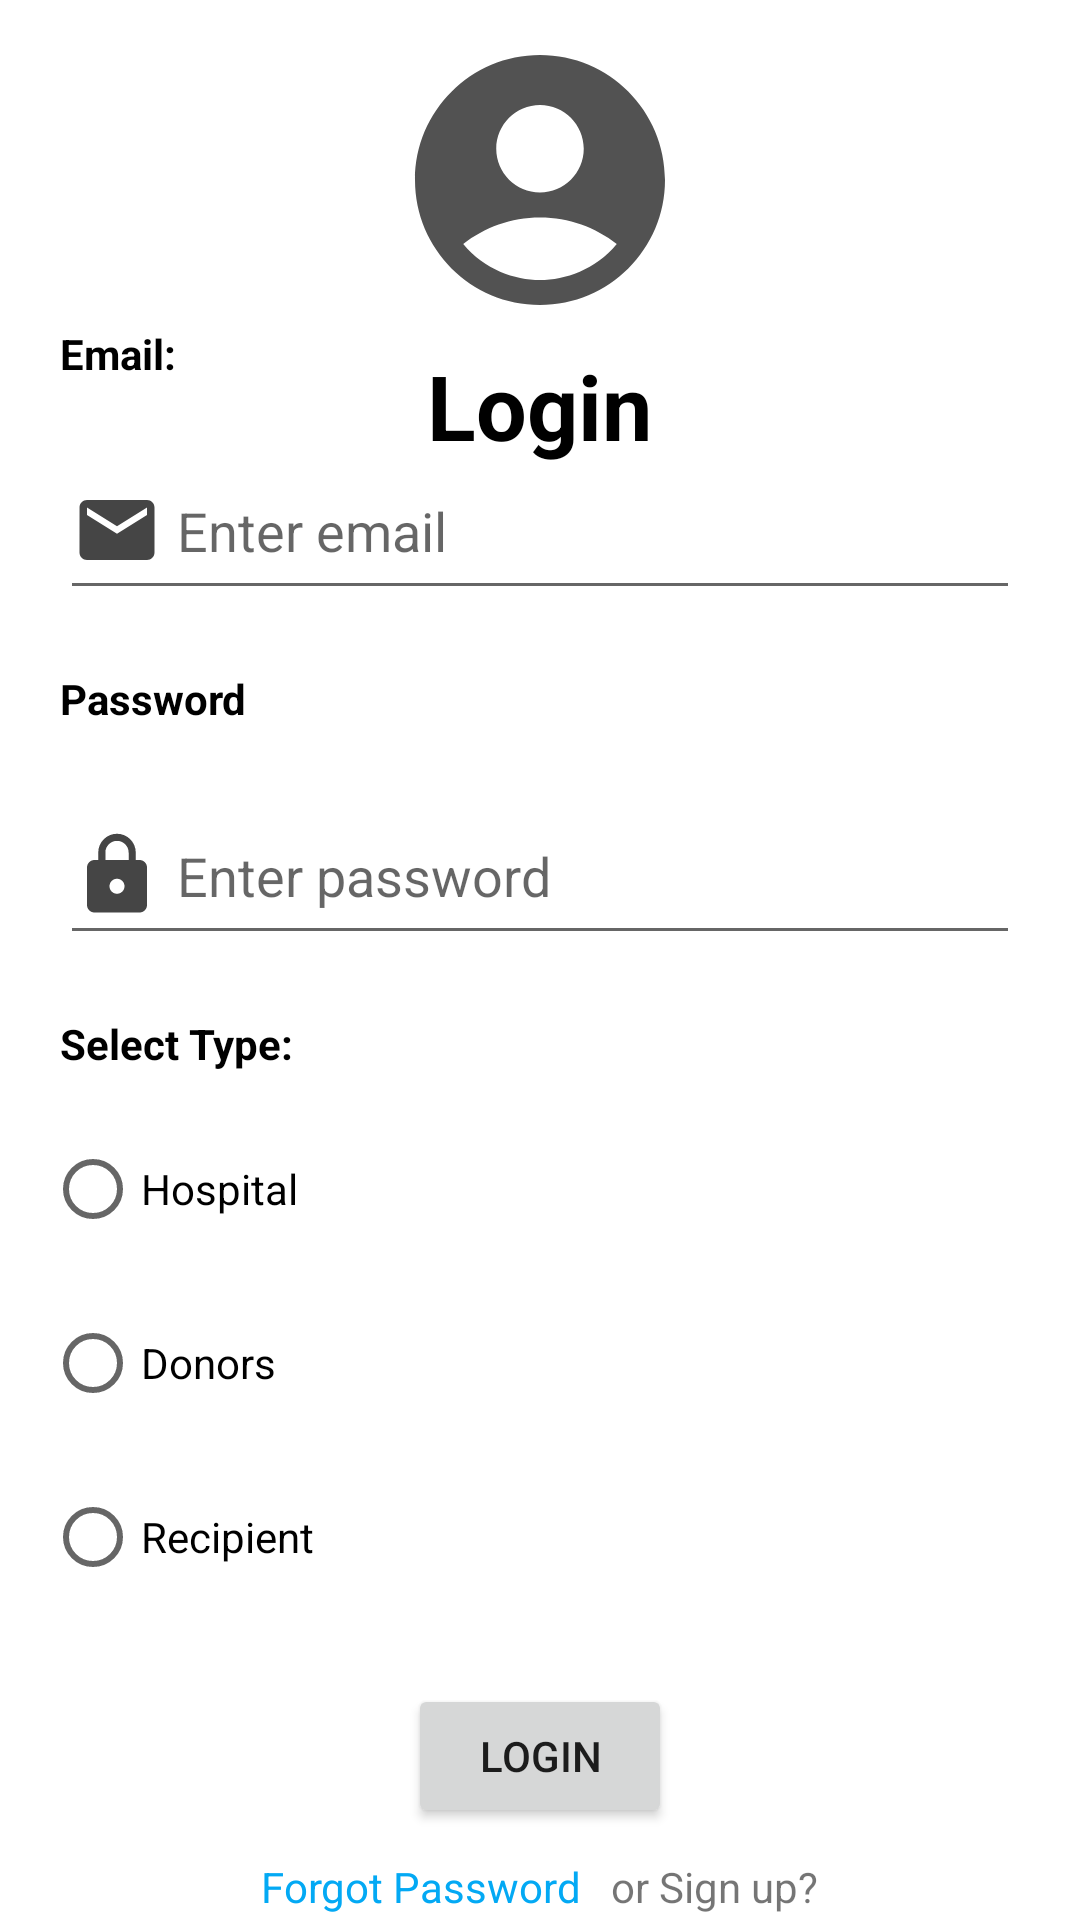

Icon click points for this 1080 × 1920 phone screenshot, format point (x, y):
account: point (540, 180)
